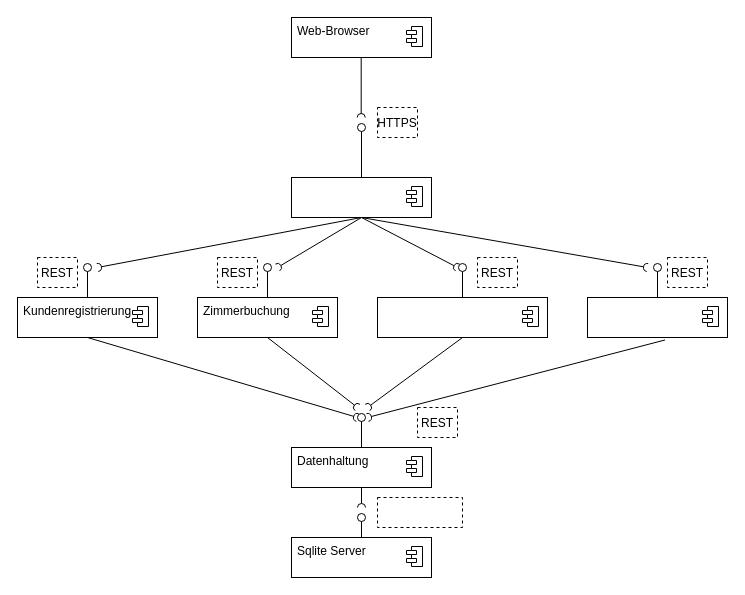
Image size: 745x595. Some labels were removed from this diagram. The shapes that lost their labels are listed below. From the top down, each one's centre as x and y in pixels, then its label:
At [361,197]: "Hotelbuchung".
At [462,317]: "Dienstleistungsbuchung".
At [657,317]: "Zahlung".
At [419,512]: "JDBC-Treiber".
